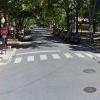Crosswalk: (8, 48, 96, 67)
